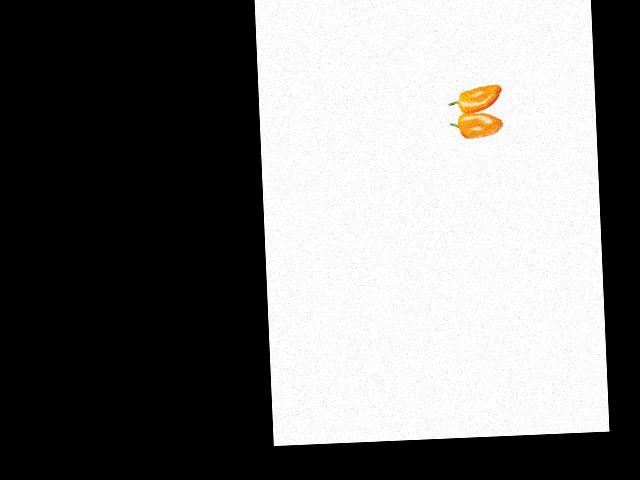bell_pepper: (448, 110, 514, 145)
